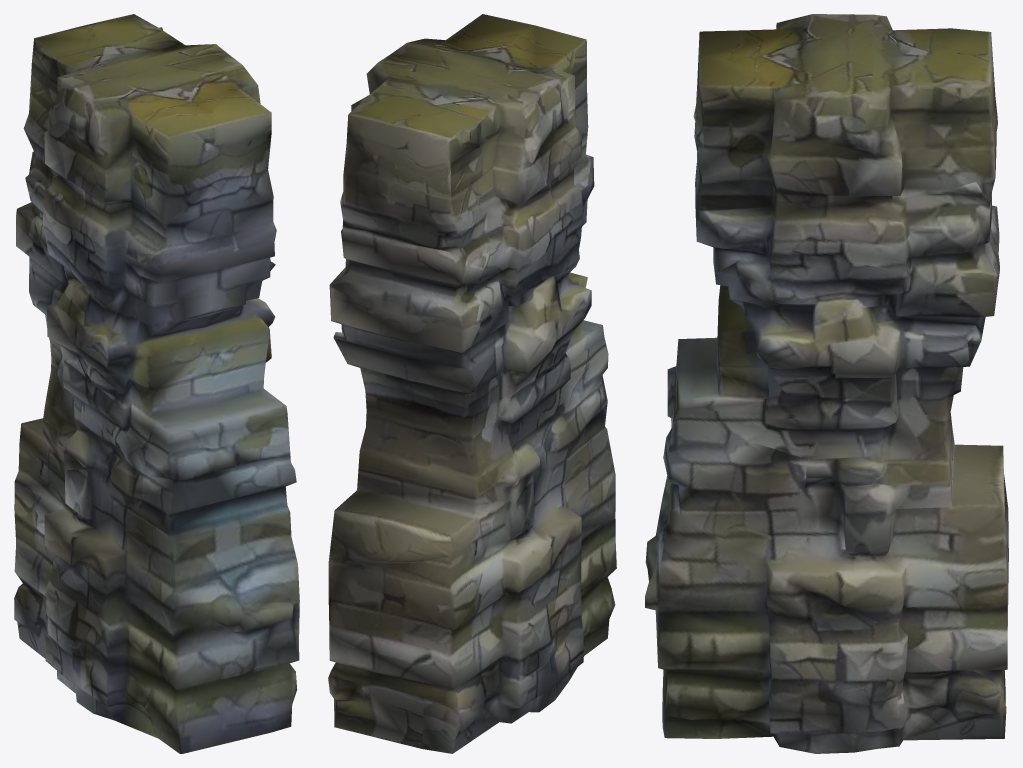
The model's file is cliff_face.glb.
3 renders of one model, left to right at view 1: azimuth 30°, elevation 25°; view 2: azimuth 150°, elevation 25°; view 3: azimuth 270°, elevation 25°, orthographic. The views are drawn at different scales.
Visible parts, largest first — view 1: tripo_node_deb034fa-6a96-46f2-a241-49bb07f6cc11; view 2: tripo_node_deb034fa-6a96-46f2-a241-49bb07f6cc11; view 3: tripo_node_deb034fa-6a96-46f2-a241-49bb07f6cc11.
Boxes of the visible parts, box(x1,y1,x2,y2) form: tripo_node_deb034fa-6a96-46f2-a241-49bb07f6cc11: box(14, 14, 299, 753); tripo_node_deb034fa-6a96-46f2-a241-49bb07f6cc11: box(328, 14, 616, 753); tripo_node_deb034fa-6a96-46f2-a241-49bb07f6cc11: box(645, 14, 1008, 753).
Size of the model in its own units: 0.2773 by 0.948 by 0.4704.
1 material, 1 textured.
